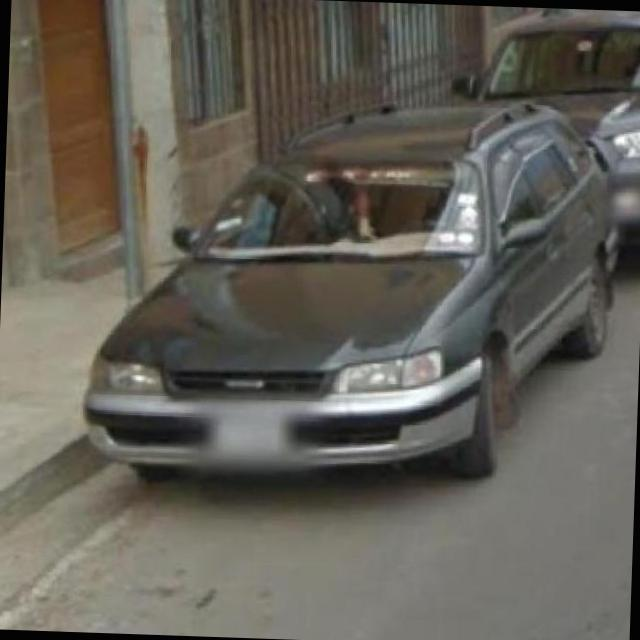car: (87, 102, 640, 482), (456, 10, 636, 271)
